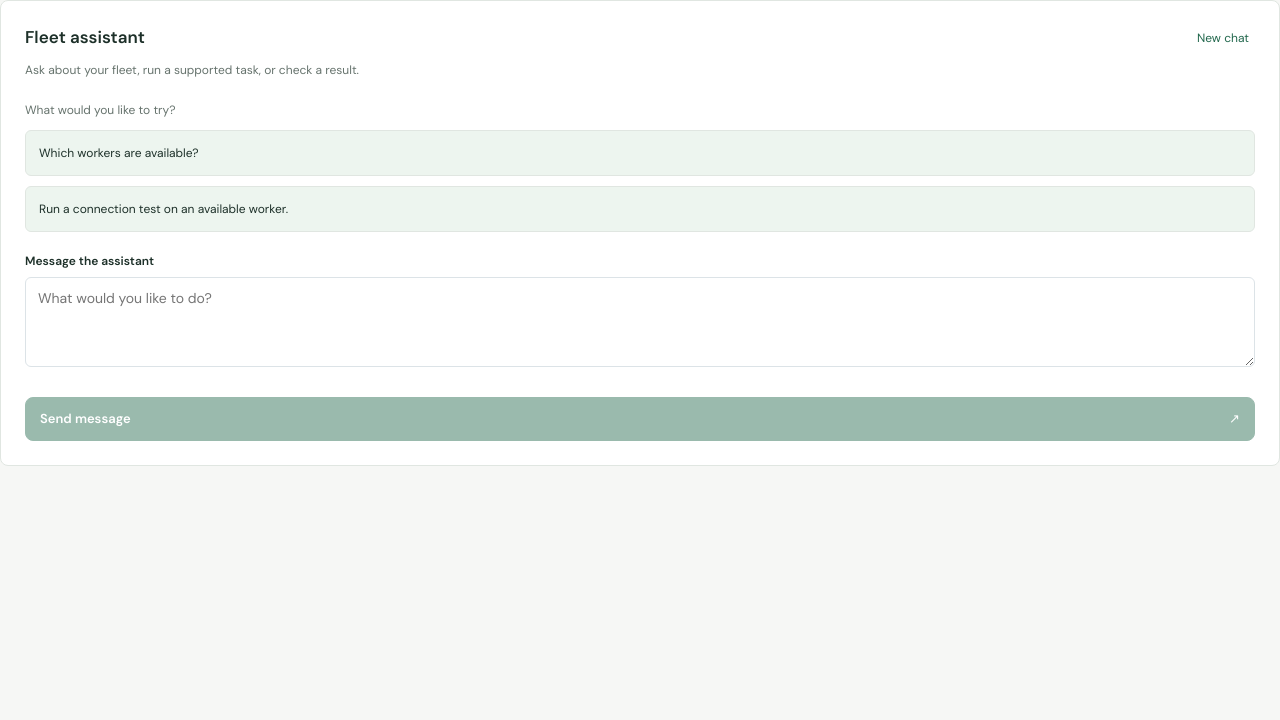
Test: fleet assistant › reuses the request ID when recovering a lost response
This screenshot has width=1280, height=720.
Type "Run a connection test" into the text box labelled "Message the assistant" at (640, 322), box [25,277,1255,367]
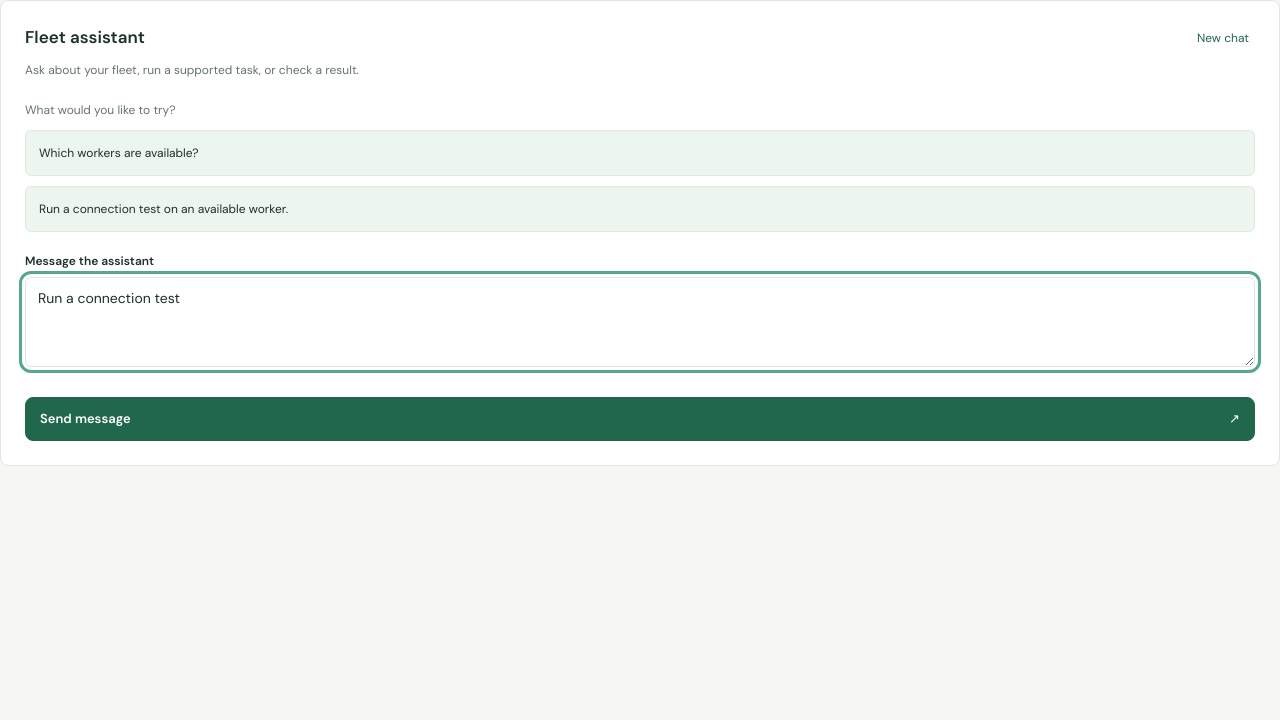
Click the button "Send message ↗" at (85, 419), box [25,397,1255,441]
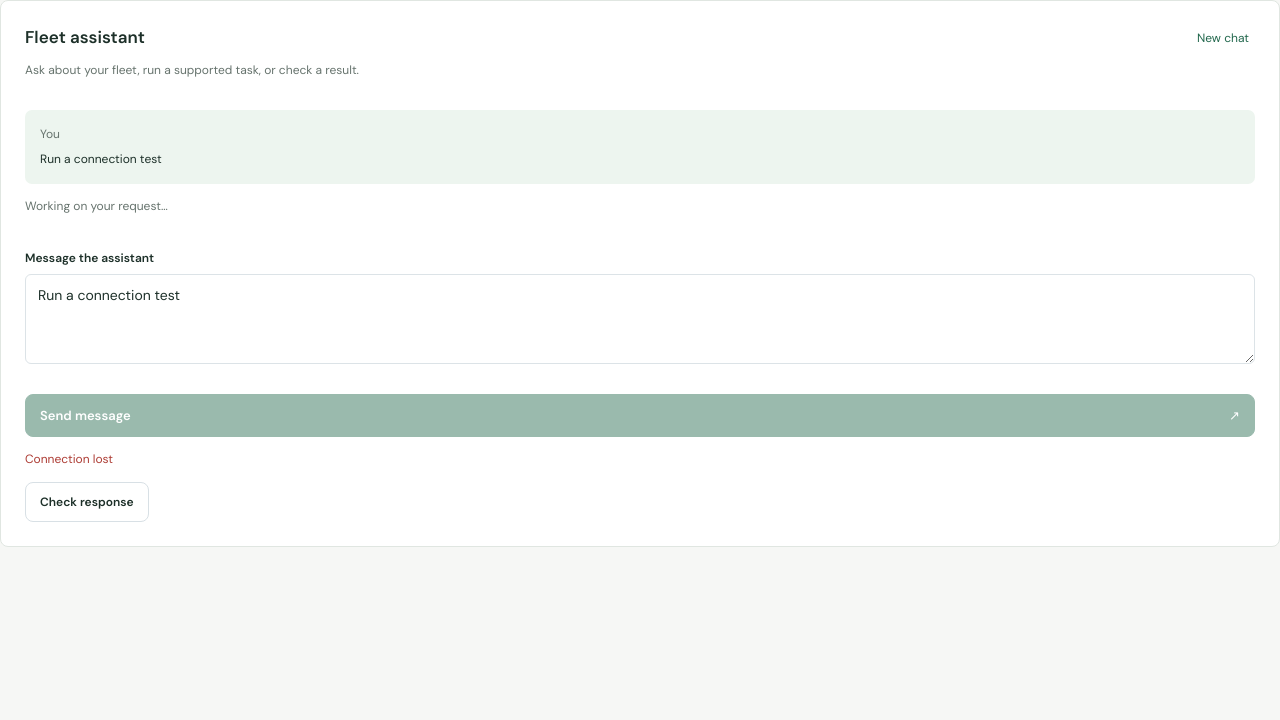
Expected: the message reads "Connection lost", [25,451,113,467]
Expected: the text box labelled "Message the assistant" is disabled, [25,274,1255,364]
Click the button "Check response" at (87, 502), box [25,482,149,522]
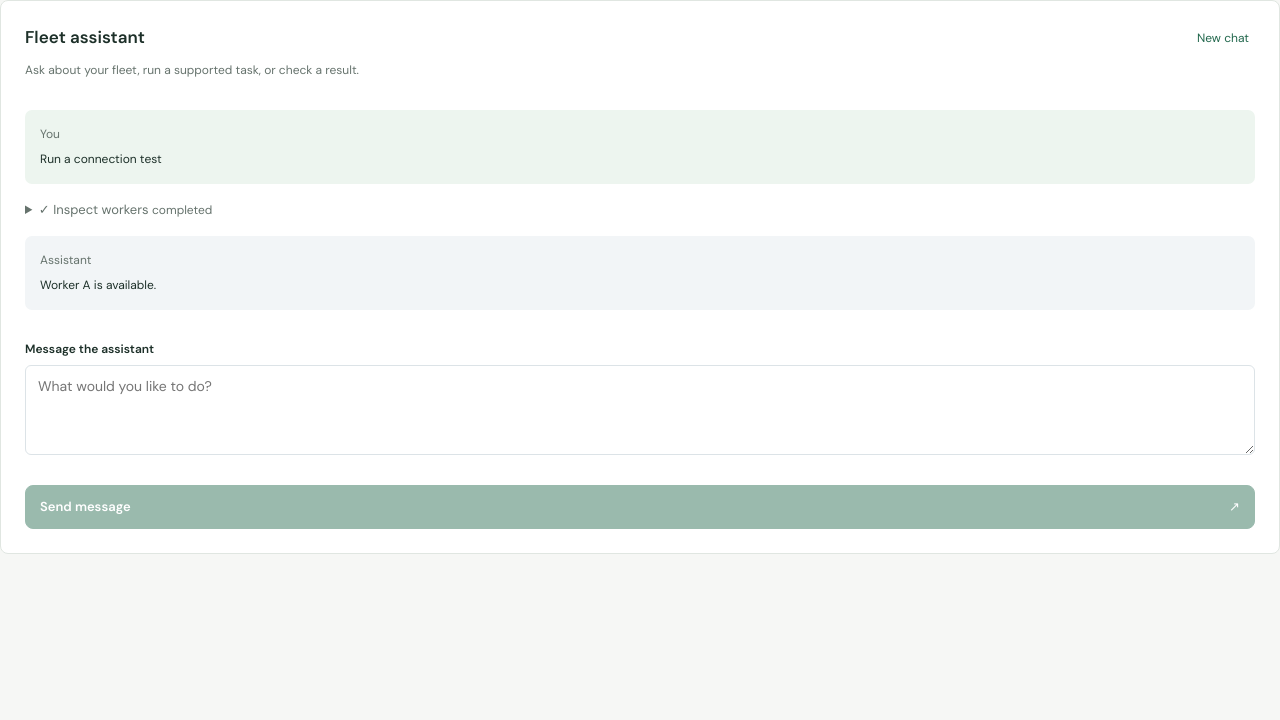
Expected: the text "Worker A is available." is shown, [40,277,156,293]
